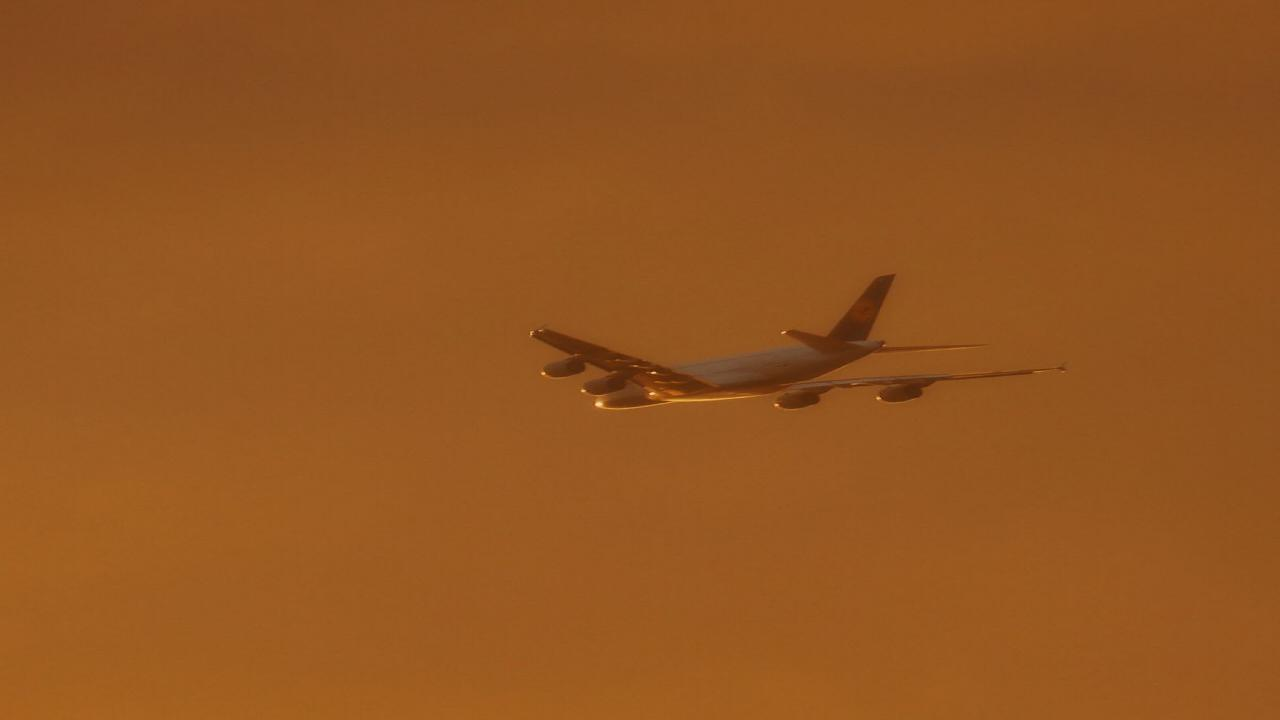Airplane: (506, 259, 1098, 427)
